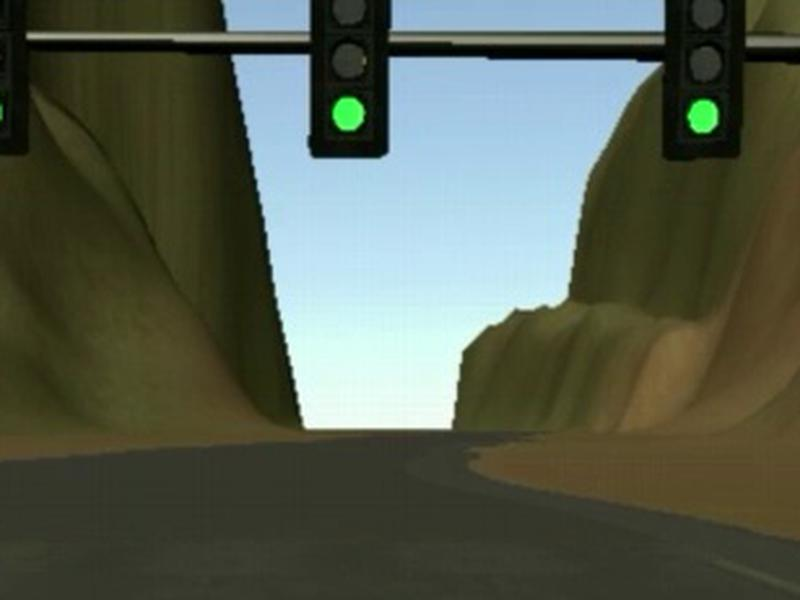Green: (661, 1, 747, 161), (309, 1, 390, 158)
